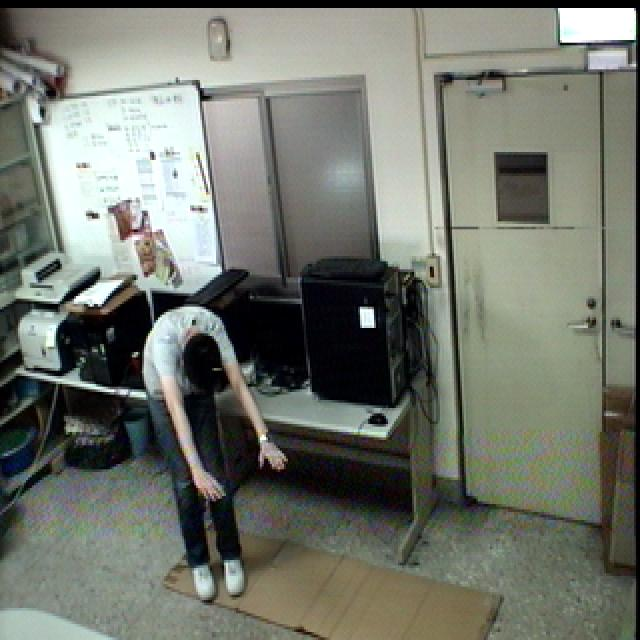bend: (138, 298, 287, 605)
